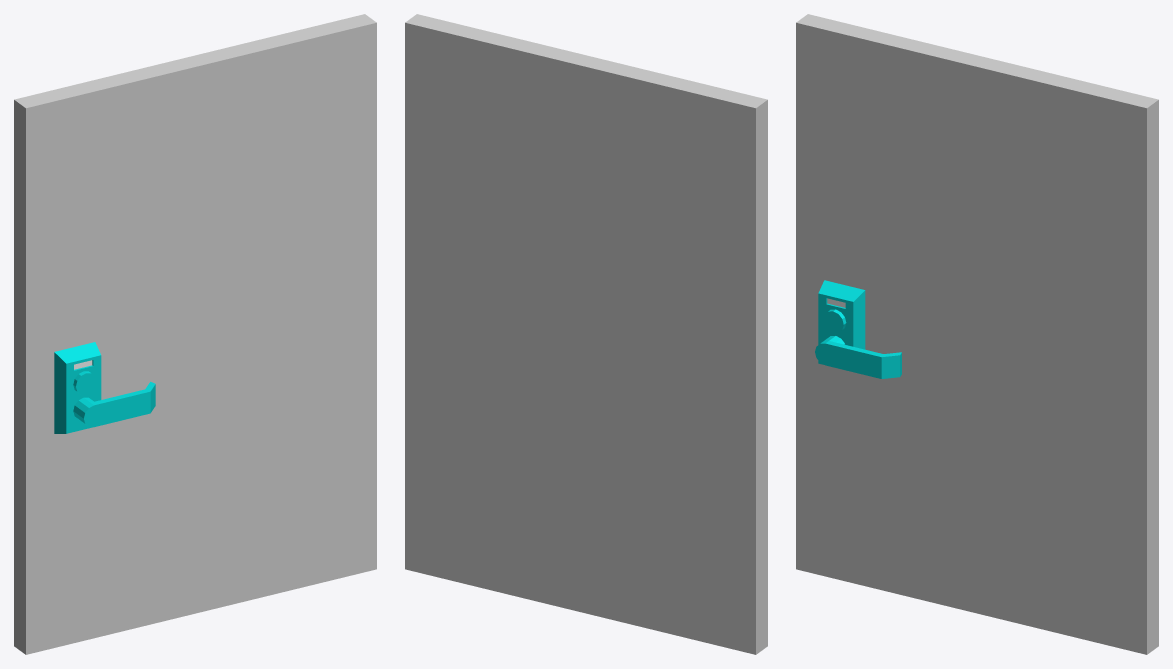
3 views of the same model, side by side, from view 1: azimuth 30°, elevation 25°; view 2: azimuth 150°, elevation 25°; view 3: azimuth 330°, elevation 25° (orthographic).
Parts seen in each view (by area): view 1: sm_hallway_door; view 2: sm_hallway_door; view 3: sm_hallway_door.
Boxes of the visible parts, left/top/right/bottom form: sm_hallway_door: left=14, top=14, right=376, bottom=654; sm_hallway_door: left=405, top=14, right=767, bottom=654; sm_hallway_door: left=796, top=14, right=1158, bottom=654.
Size of the model in its own units: 160 by 238 by 24.8.
